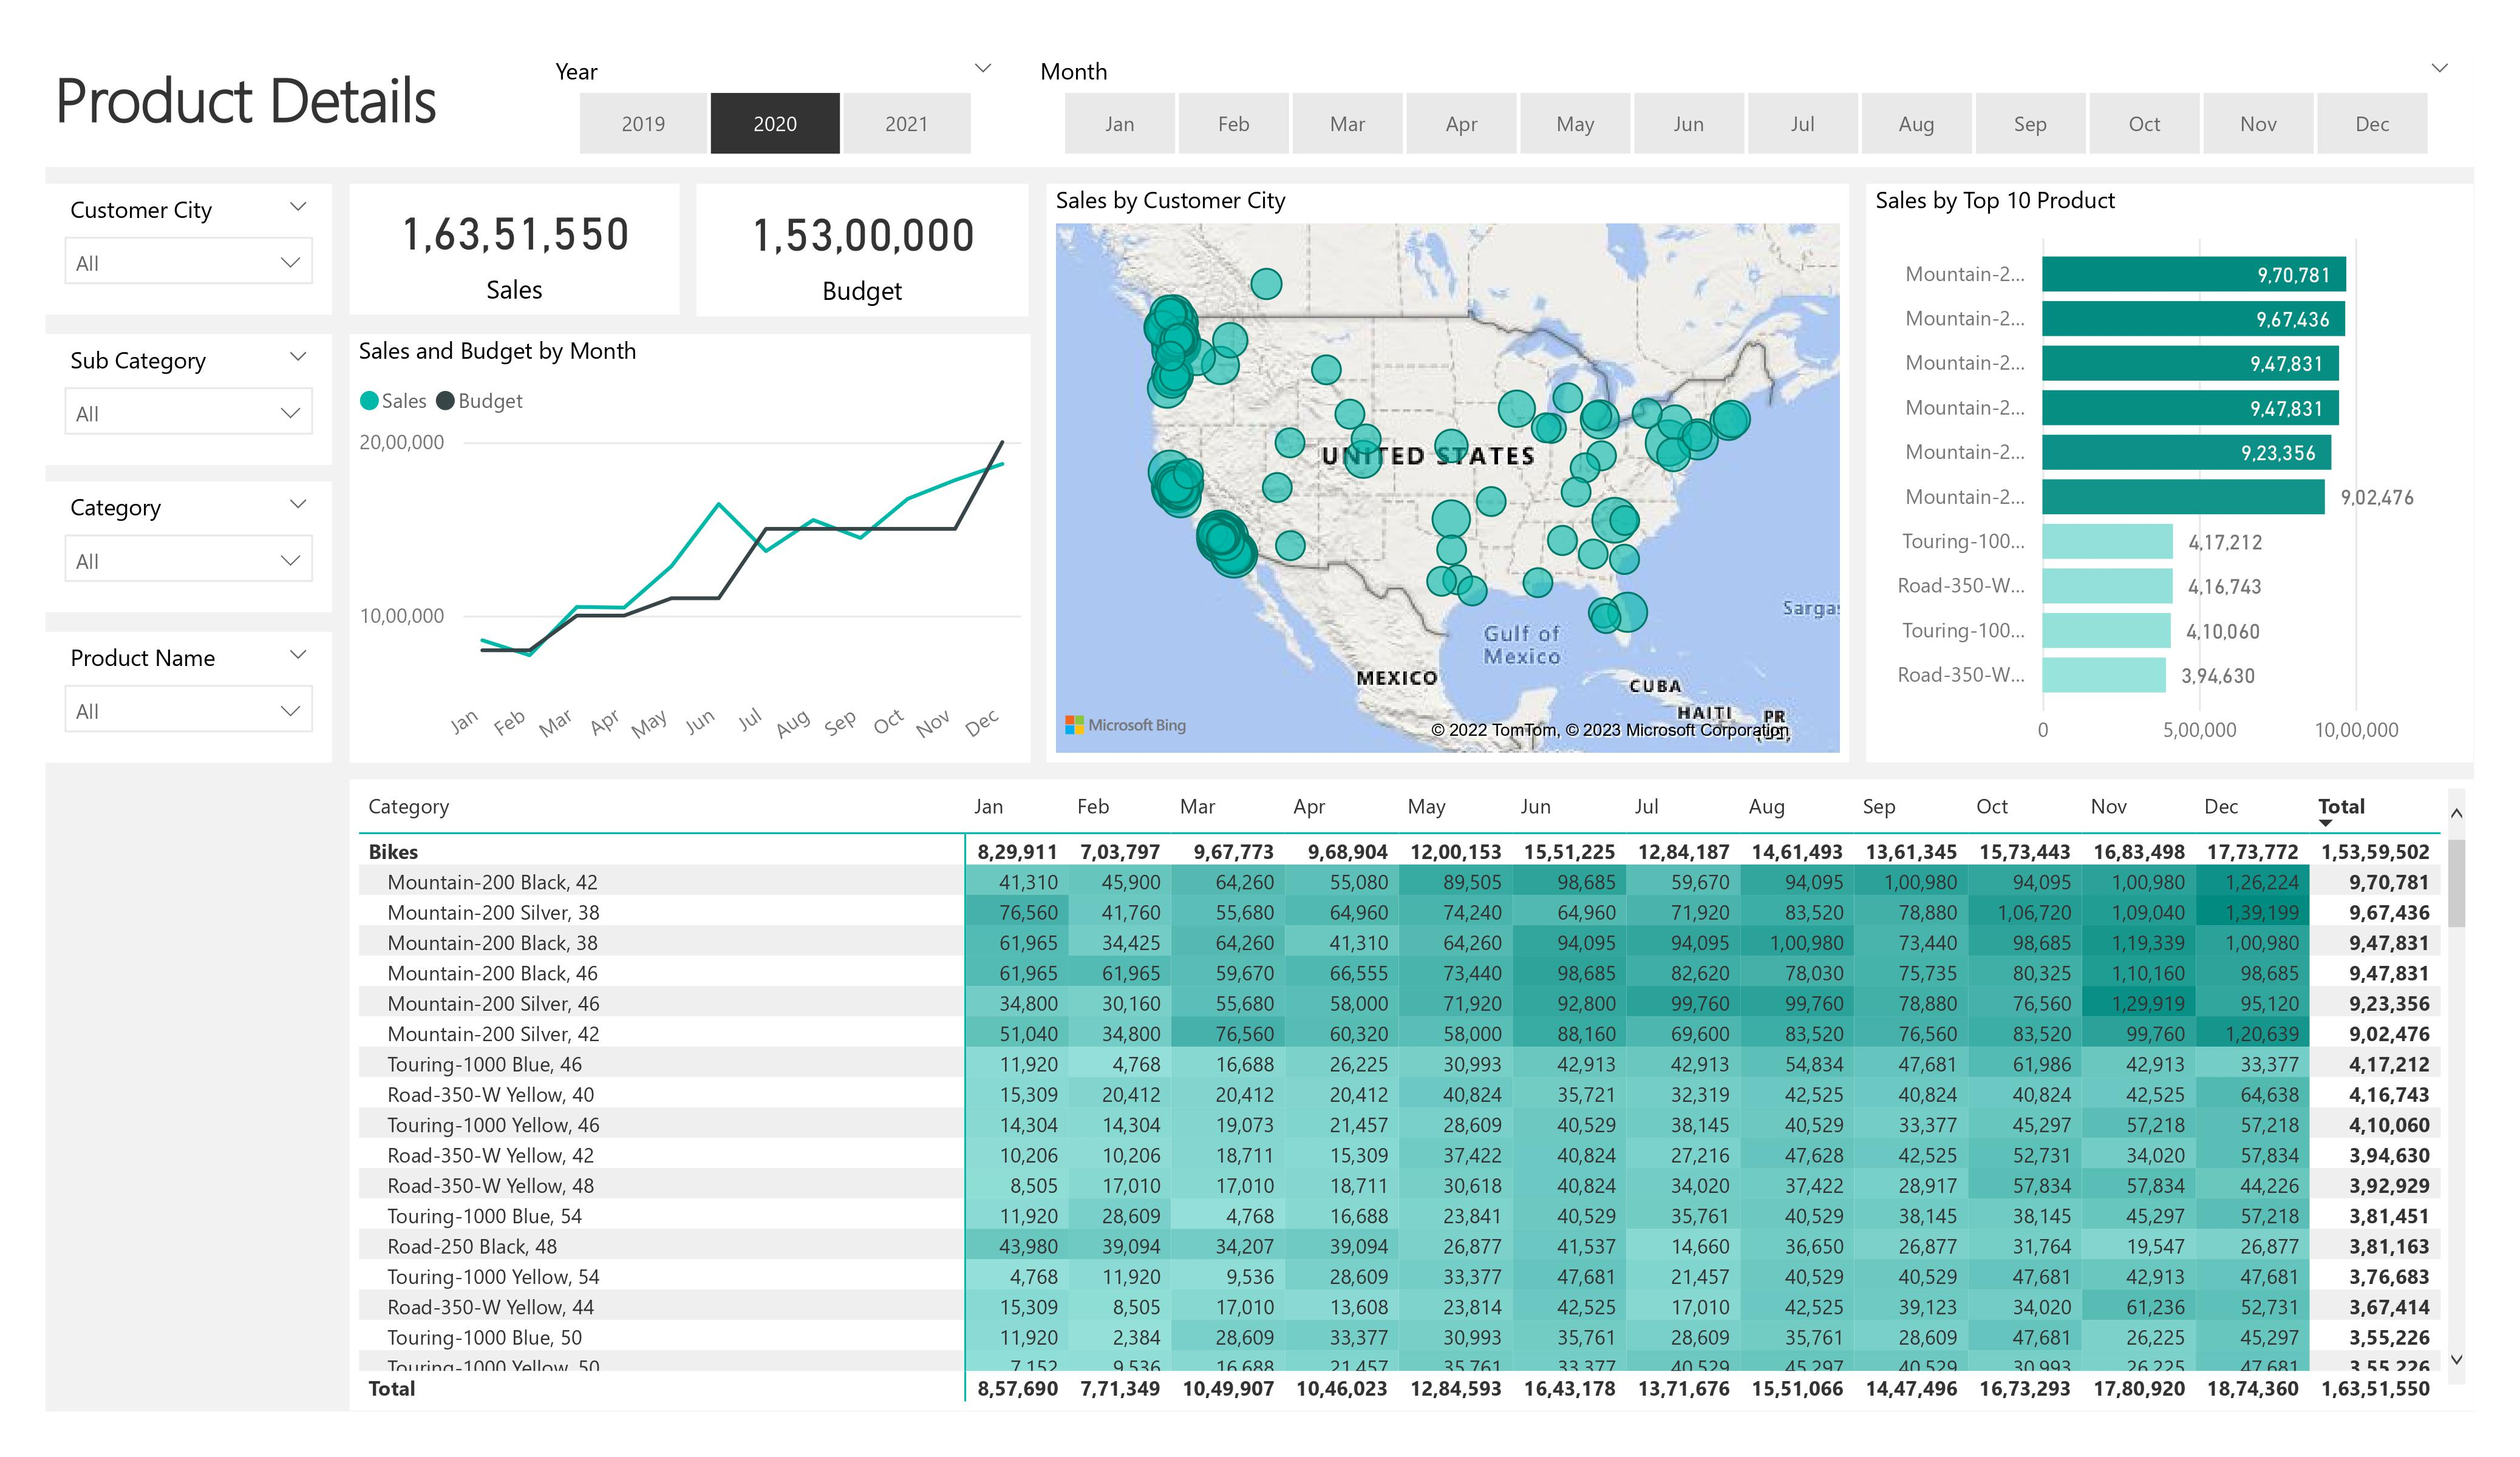

What the dashboard file says about the page in this screenshot:
{"tool":"powerbi","page":{"name":"Product Details","canvas":[1280,720],"ordinal":2},"visuals":[{"type":"textbox","box":[0,0,1280,64],"z":0},{"type":"slicer","fields":{"Values":["DIM_Calendar.Year"]},"box":[256,0,256,64],"z":1000},{"type":"slicer","fields":{"Values":["DIM_Calendar.MonthShort"]},"box":[512,0,768,64],"z":2000},{"type":"slicer","fields":{"Values":["DIM_Customers.Customer City"]},"box":[0,73,150.5,69.3],"z":3000},{"type":"slicer","fields":{"Values":["DIM_Products.Product Category"]},"box":[0,229.9,150.5,69.3],"z":4000},{"type":"slicer","fields":{"Values":["DIM_Products.Product Name"]},"box":[0,308.4,150.5,69.3],"z":5000},{"type":"slicer","fields":{"Values":["DIM_Products.Sub Category"]},"box":[0,151.4,150.5,69.3],"z":6000},{"type":"lineChart","fields":{"Category":["DIM_Calendar.MonthShort"],"Y":["Analysis Metrics.Sales","Analysis Metrics.Budget"]},"box":[159.8,151.8,358.7,226.4],"z":7000},{"type":"card","fields":{"Values":["Analysis Metrics.Sales"]},"box":[160.7,72.8,174,69.2],"z":8000},{"type":"map","fields":{"Category":["DIM_Customers.Customer City"],"Size":["Analysis Metrics.Sales"]},"box":[527.3,72.8,423.5,304.5],"z":9000},{"type":"card","fields":{"Values":["Analysis Metrics.Budget"]},"box":[343.6,72.8,174.9,70.1],"z":10000},{"type":"pivotTable","fields":{"Rows":["DIM_Products.Product Category","DIM_Products.Product Name"],"Columns":["DIM_Calendar.MonthShort"],"Values":["Analysis Metrics.Sales"]},"box":[159.8,387.1,1120.4,332.9],"z":11000},{"type":"clusteredBarChart","title":"Sales by Top 10 Product","fields":{"Category":["DIM_Products.Product Name"],"Y":["Analysis Metrics.Sales"]},"box":[959.7,72.8,320.5,304.5],"z":12000}]}

Visuals, with their boxes on the page's 1280x720 design canvas (x1, y1, x2, y2). These are canvas units, not pixel positions in the 2520x1457 screenshot, which may show the page scaled, cropped or inside an application window:
textbox: [x1=0, y1=0, x2=1280, y2=64]
slicer - DIM_Calendar.Year: [x1=256, y1=0, x2=512, y2=64]
slicer - DIM_Calendar.MonthShort: [x1=512, y1=0, x2=1280, y2=64]
slicer - DIM_Customers.Customer City: [x1=0, y1=73, x2=150, y2=142]
slicer - DIM_Products.Product Category: [x1=0, y1=230, x2=150, y2=299]
slicer - DIM_Products.Product Name: [x1=0, y1=308, x2=150, y2=378]
slicer - DIM_Products.Sub Category: [x1=0, y1=151, x2=150, y2=221]
lineChart - DIM_Calendar.MonthShort x Analysis Metrics.Sales: [x1=160, y1=152, x2=518, y2=378]
card - Analysis Metrics.Sales: [x1=161, y1=73, x2=335, y2=142]
map - DIM_Customers.Customer City x Analysis Metrics.Sales: [x1=527, y1=73, x2=951, y2=377]
card - Analysis Metrics.Budget: [x1=344, y1=73, x2=518, y2=143]
pivotTable - DIM_Products.Product Category x DIM_Products.Product Name: [x1=160, y1=387, x2=1280, y2=720]
"Sales by Top 10 Product" clusteredBarChart: [x1=960, y1=73, x2=1280, y2=377]
